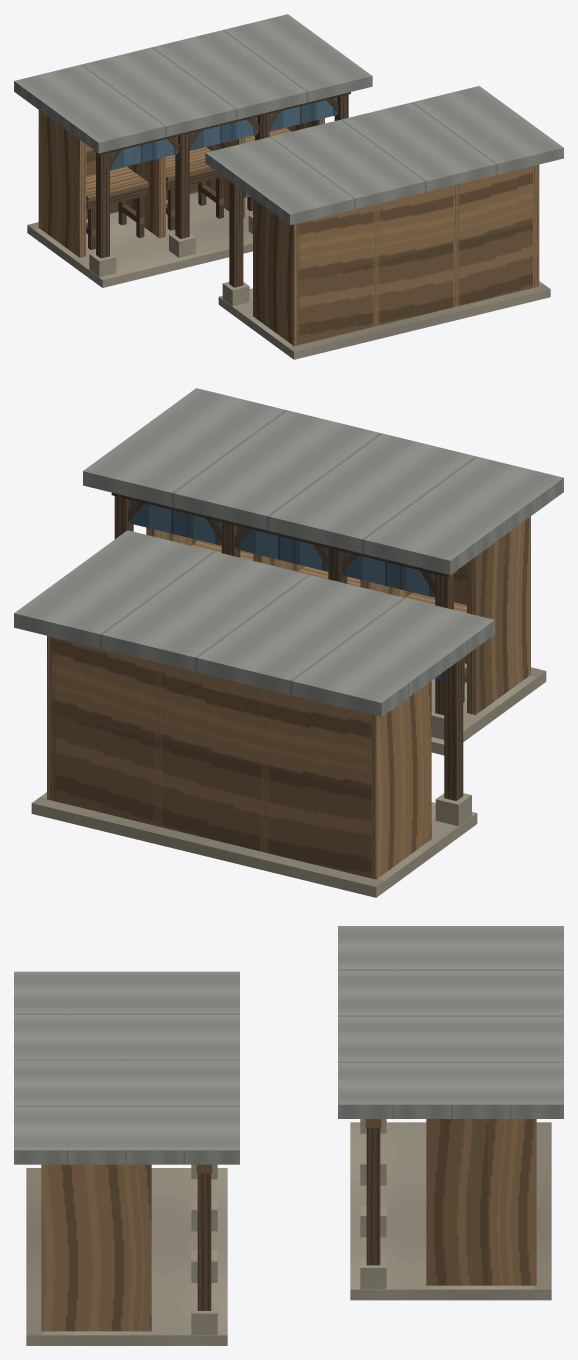
The model's file is bauchi.glb.
3 renders of one model, top to bottom at view 1: azimuth 30°, elevation 25°; view 2: azimuth 150°, elevation 25°; view 3: azimuth 270°, elevation 25°, orthographic. The views are drawn at different scales.
Visible parts, largest first — view 1: bauchi; view 2: bauchi; view 3: bauchi.
Boxes of the visible parts, x1,y1,x2,y2 form: bauchi: [14, 14, 563, 359]; bauchi: [14, 388, 563, 897]; bauchi: [14, 926, 563, 1345].
Size of the model in its own units: 5.4 by 2.26 by 5.6.
1 material, 1 textured.
